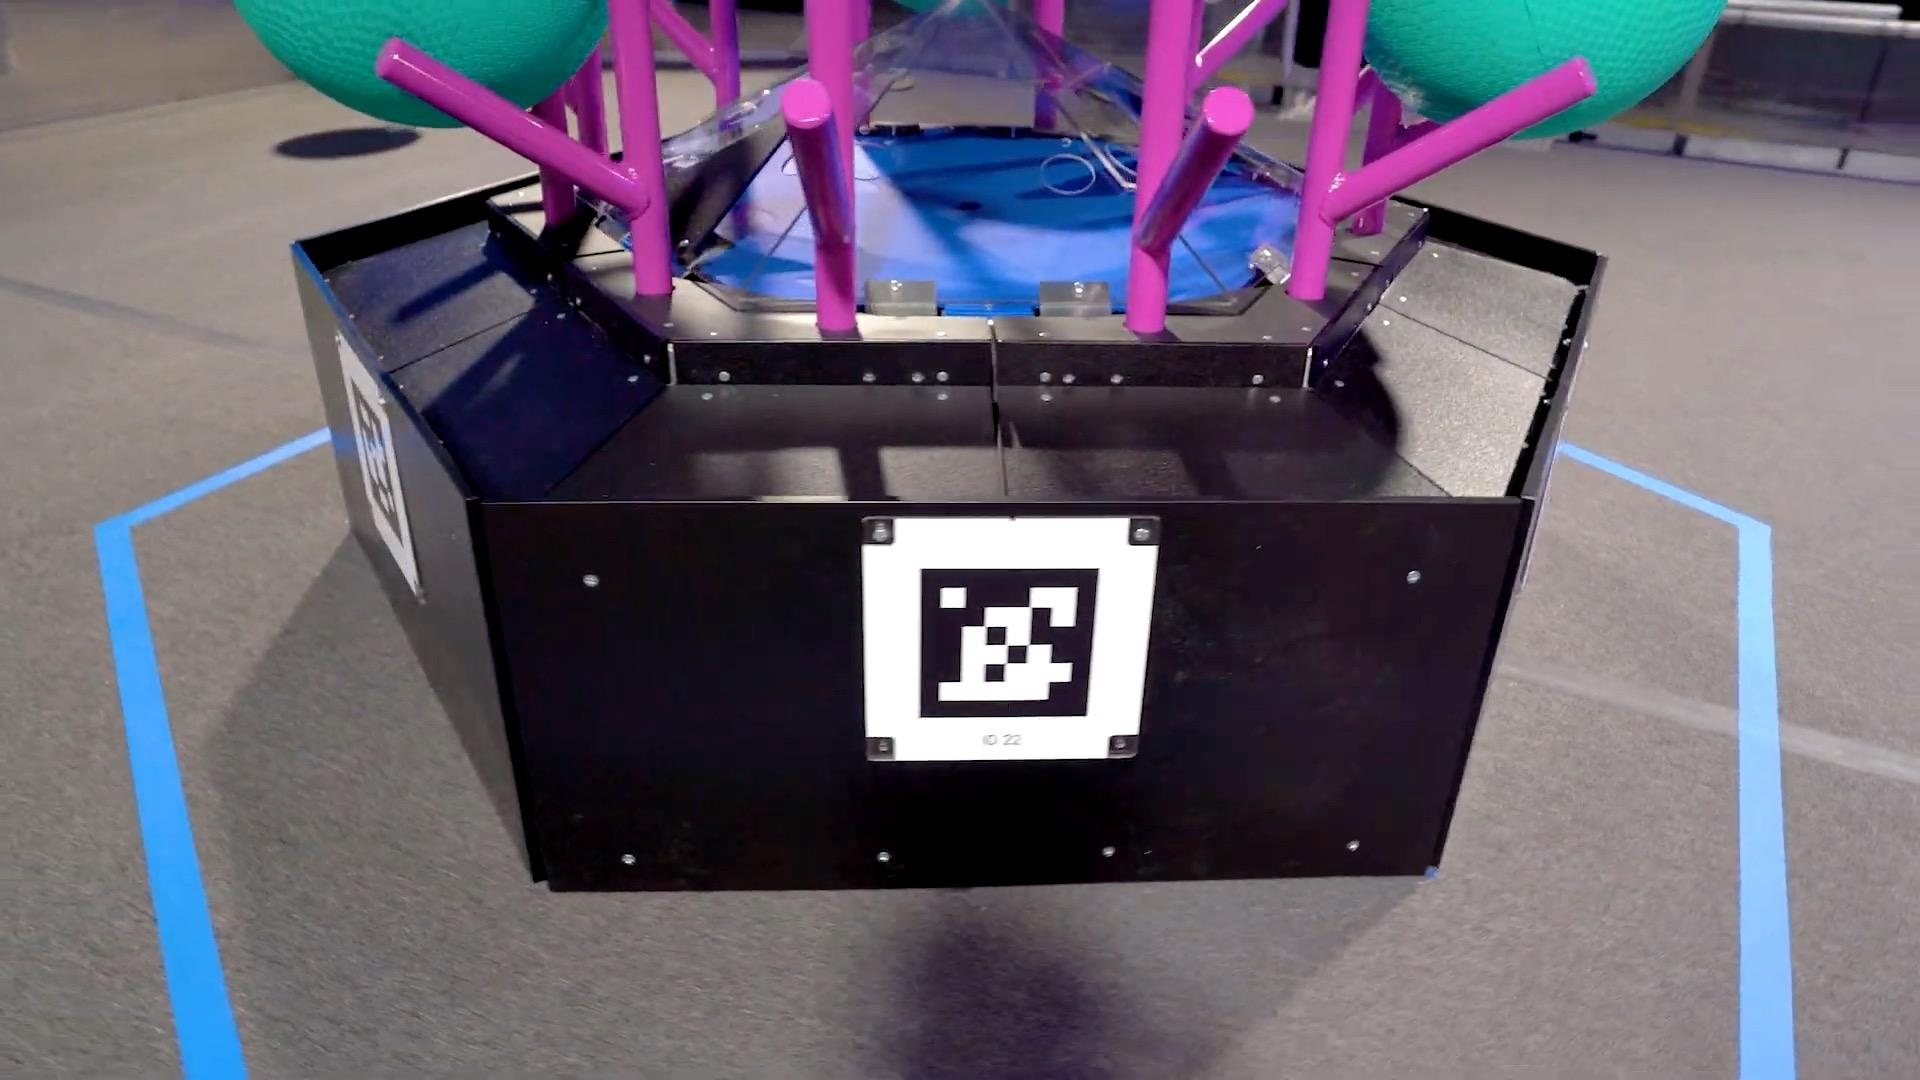ALGAE: (1360, 0, 1727, 142), (231, 0, 611, 131)
